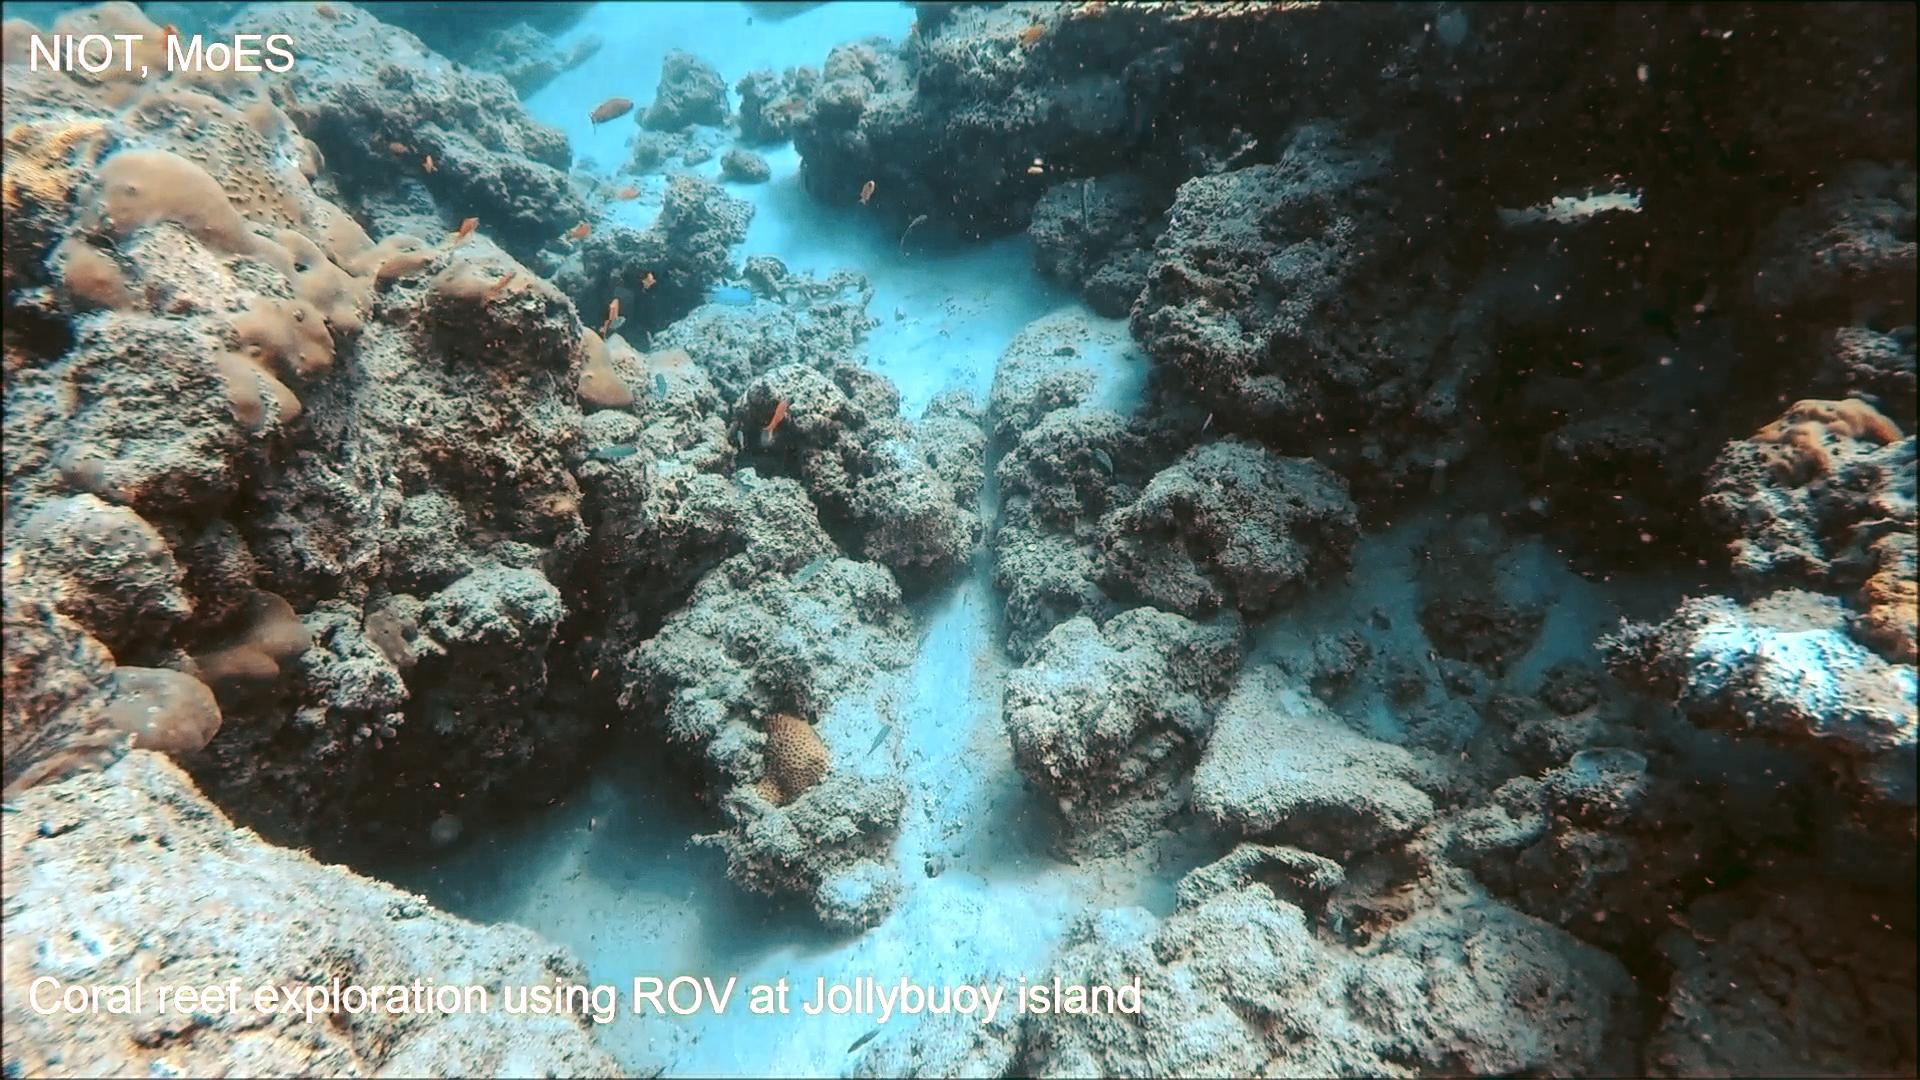Porites-Porites pukoensis: (0, 0, 451, 444)
